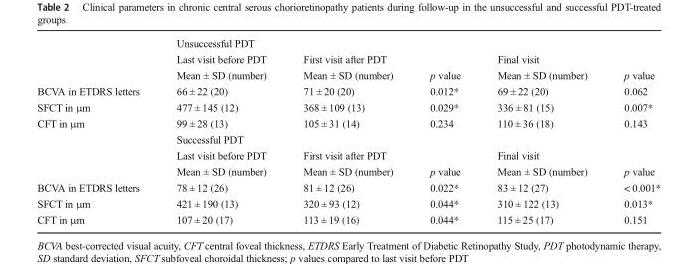table: (36, 36, 660, 225)
table column: (157, 36, 284, 225), (284, 36, 410, 225), (478, 36, 604, 225), (36, 36, 157, 225), (410, 36, 478, 225), (604, 36, 660, 225)
table column header: (36, 36, 660, 82)
table row: (36, 114, 660, 131), (36, 162, 660, 179), (36, 50, 660, 66), (36, 66, 660, 82), (36, 82, 660, 98), (36, 98, 660, 114), (36, 146, 660, 162), (36, 179, 660, 195), (36, 195, 660, 211), (36, 131, 660, 146), (36, 36, 660, 50), (36, 211, 660, 225)
table spanning cell: (36, 114, 157, 179), (157, 131, 660, 146), (157, 36, 660, 50), (157, 50, 284, 82), (284, 50, 478, 66), (284, 146, 478, 162), (478, 50, 660, 66), (478, 146, 660, 162)
